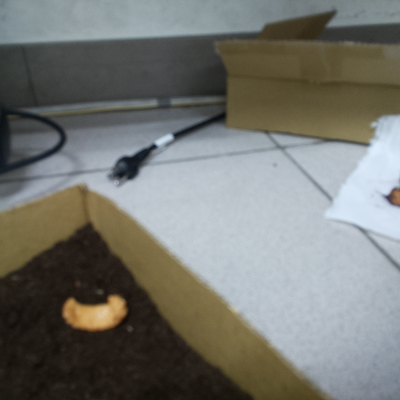eggs: (57, 287, 130, 332)
